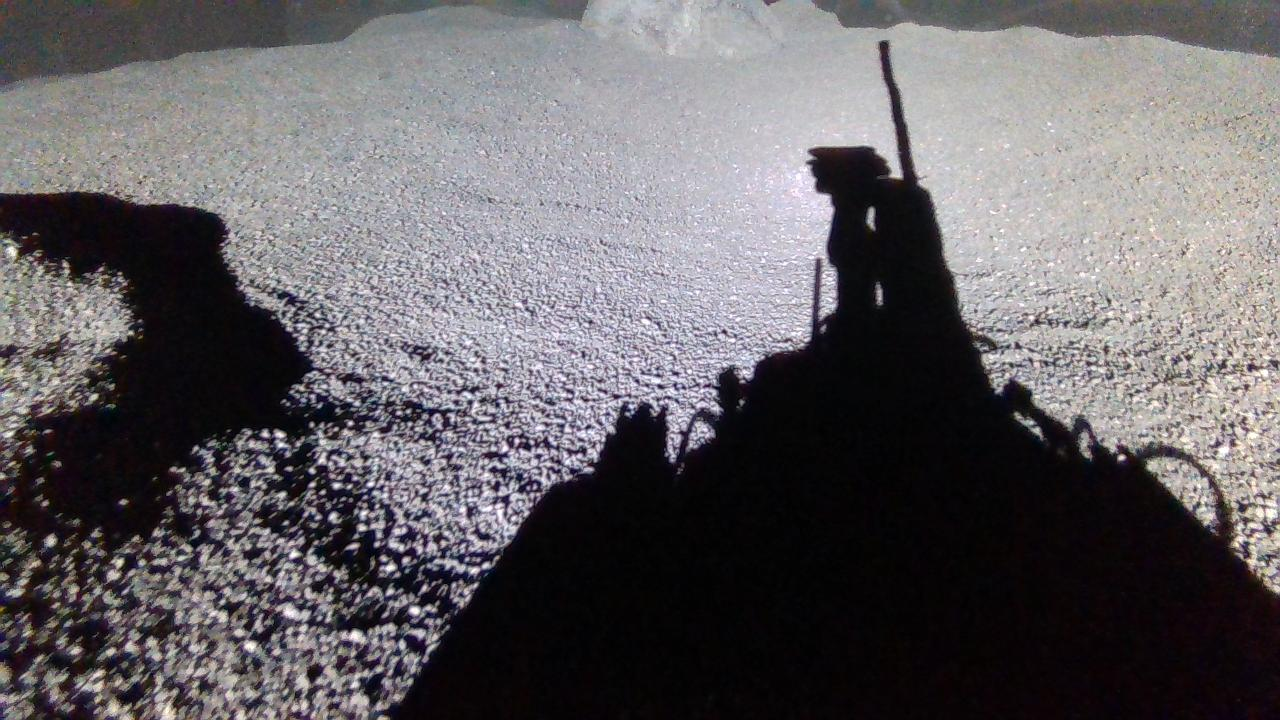rock: (581, 0, 784, 56)
